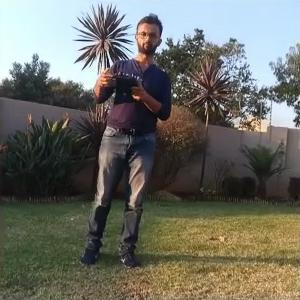follow: (72, 9, 176, 274)
